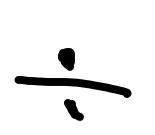div: (10, 49, 129, 123)
